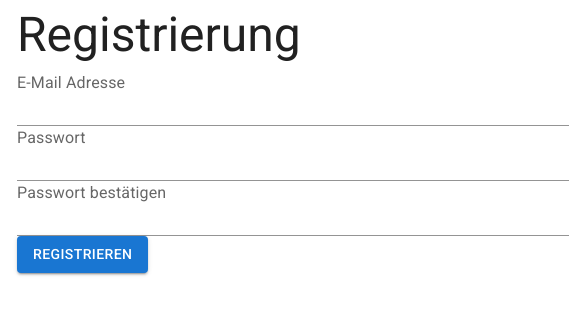
Scenario: Register › validates the password confirmation
The image size is (586, 335).
In the password field labelled "Passwort": (293, 165) [17, 149, 569, 181], type "password"
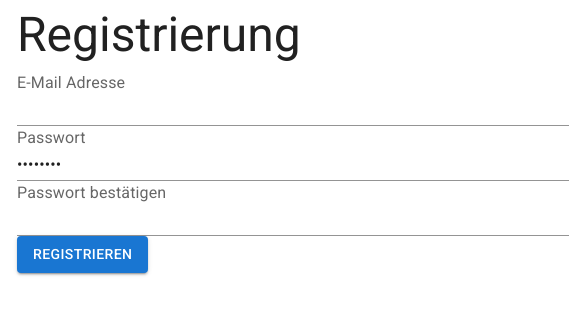
In the password field labelled "Passwort bestätigen": (293, 220) [17, 204, 569, 236], type "password1"
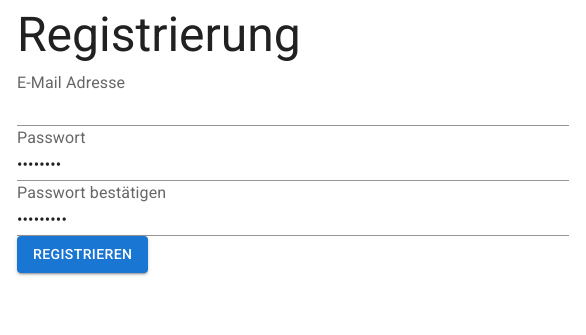
Click the button "Registrieren": (83, 254) [17, 236, 148, 272]
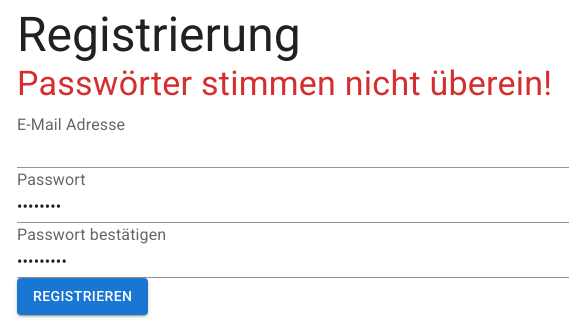
Expected: the heading "Passwörter stimmen nicht überein!" is shown, [17, 63, 569, 105]
